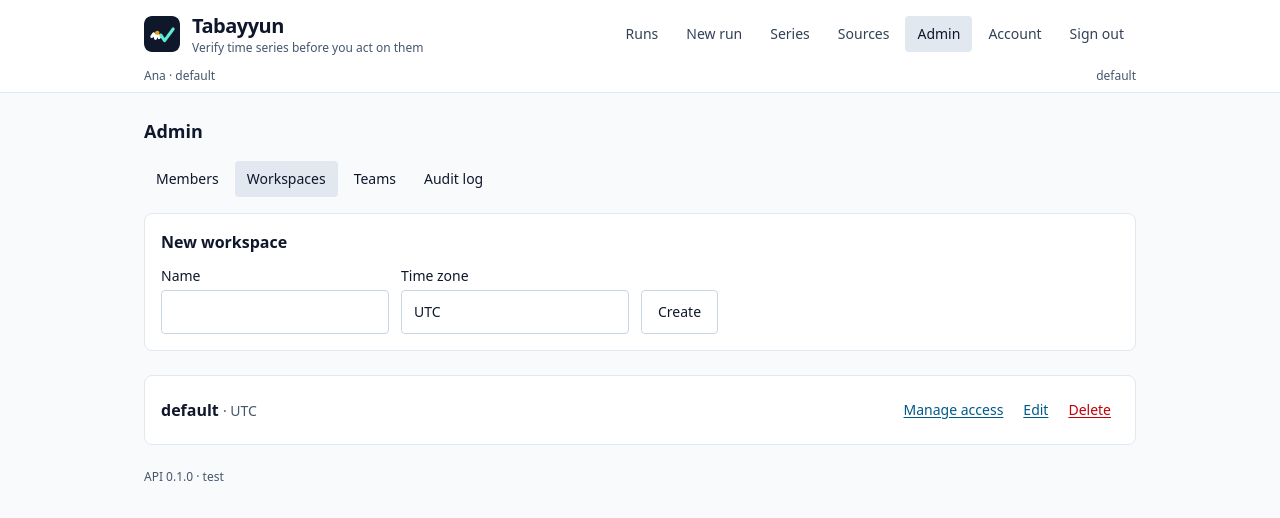
Admin: workspaces › explains why the default workspace cannot be deleted
What coordinates should you click on to do the following:
click the button "Delete"
I would click on:
 (1090, 410)
Its box is [1060, 392, 1119, 428].
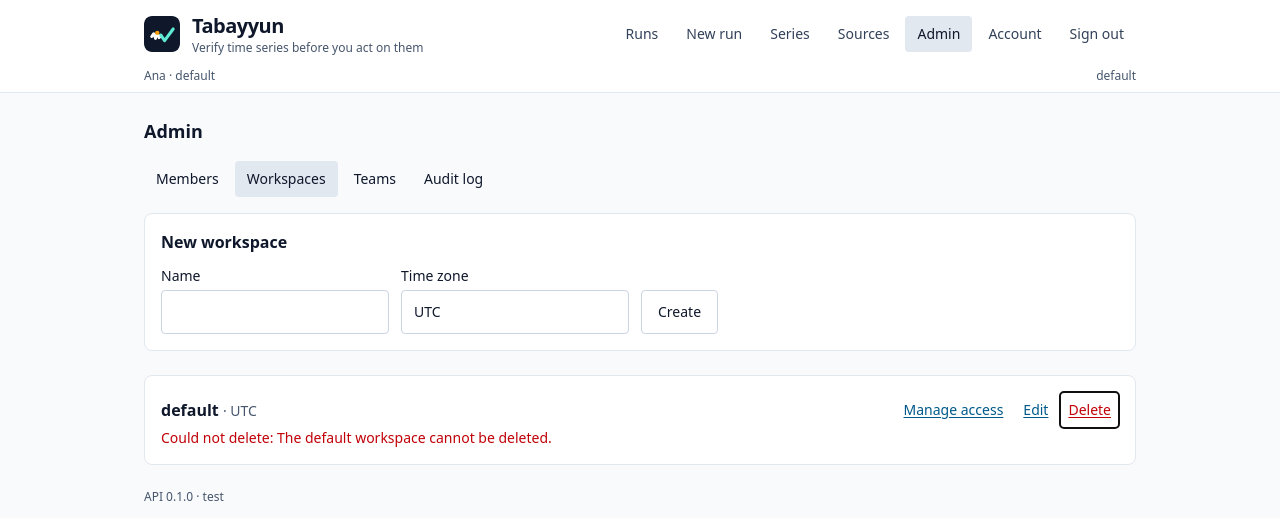
Expected: the message shows "default workspace cannot be deleted", [277, 428, 552, 447]
